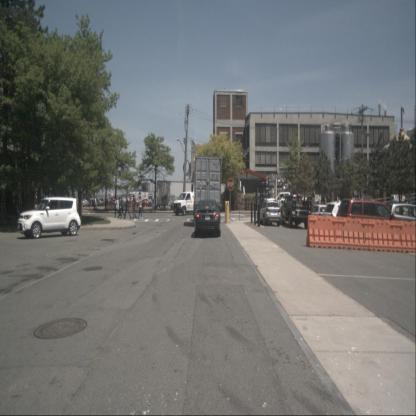barrier: (306, 214, 340, 249), (338, 216, 369, 250), (368, 219, 398, 252), (396, 220, 416, 254)
